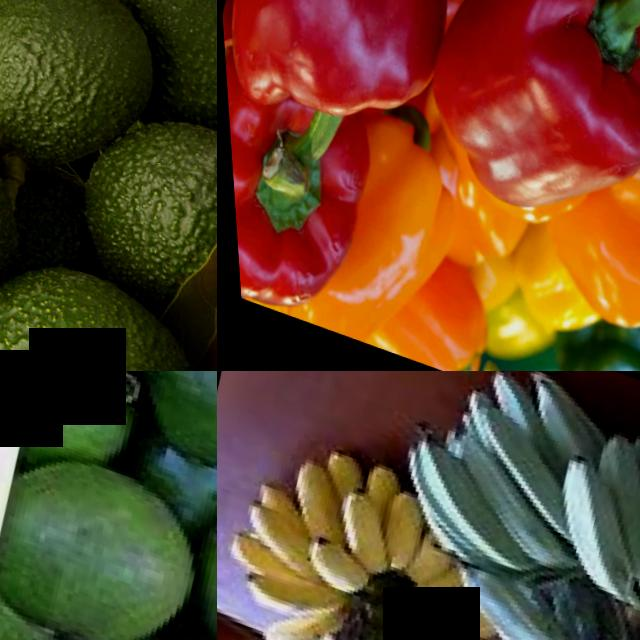avocado: (38, 62, 217, 332), (0, 435, 216, 640), (0, 0, 166, 191), (0, 232, 216, 371), (56, 0, 217, 147), (9, 371, 154, 493), (113, 371, 217, 486), (158, 481, 217, 640), (32, 371, 169, 404)
banana: (387, 431, 547, 568), (522, 437, 640, 595), (443, 555, 588, 640), (272, 452, 355, 541), (520, 379, 611, 460), (225, 496, 314, 575), (368, 479, 433, 579), (602, 436, 640, 600), (228, 557, 327, 616), (299, 530, 377, 604), (333, 503, 399, 567), (420, 592, 493, 637), (252, 608, 337, 640), (402, 531, 444, 588), (404, 620, 509, 640), (416, 570, 460, 600)
bell pepper: (395, 0, 640, 230), (220, 44, 389, 333), (217, 0, 481, 143), (323, 121, 455, 358), (561, 144, 640, 328)
